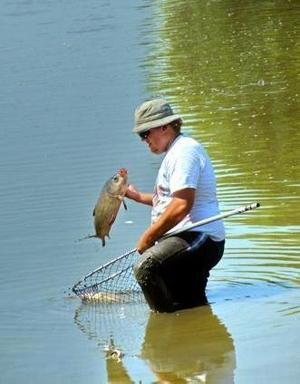person: (125, 97, 226, 315)
